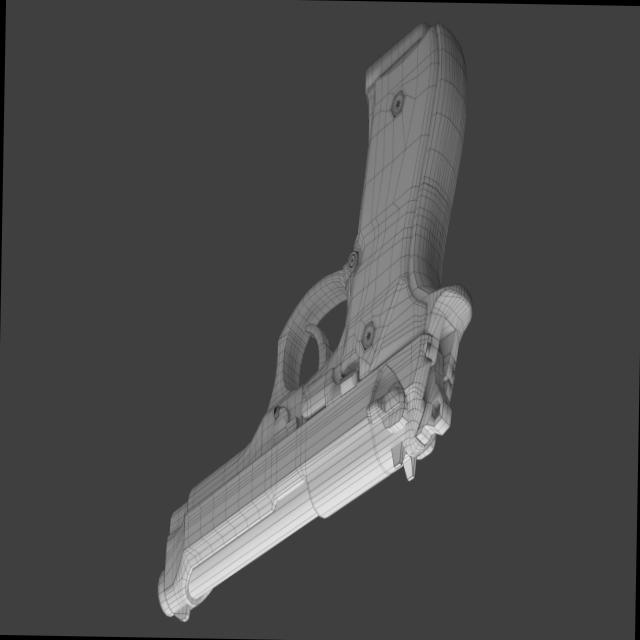Gun: (137, 0, 499, 637)
